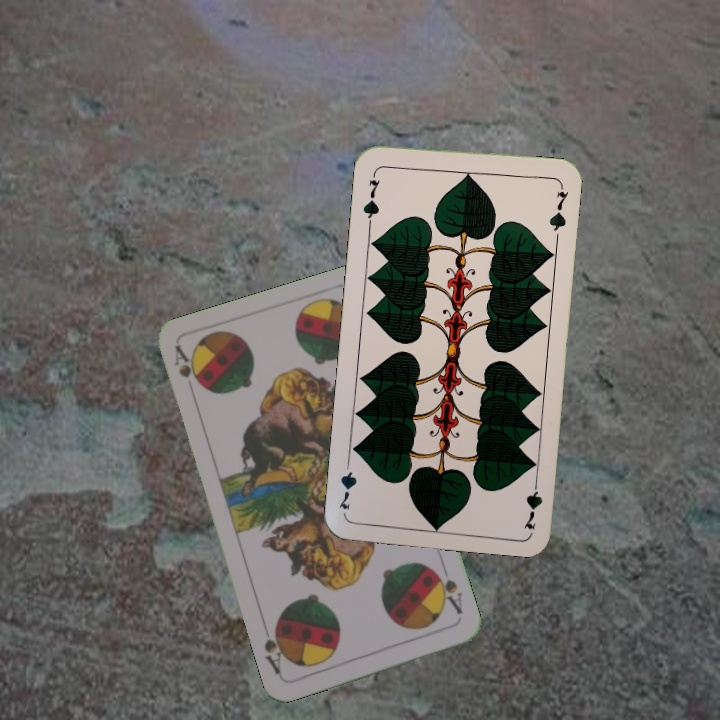G7: (519, 472, 545, 531), (359, 167, 383, 226)
SA: (170, 343, 207, 392), (430, 567, 465, 618)
